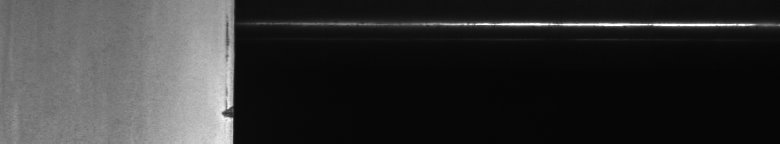hb: (219, 108, 224, 120)
